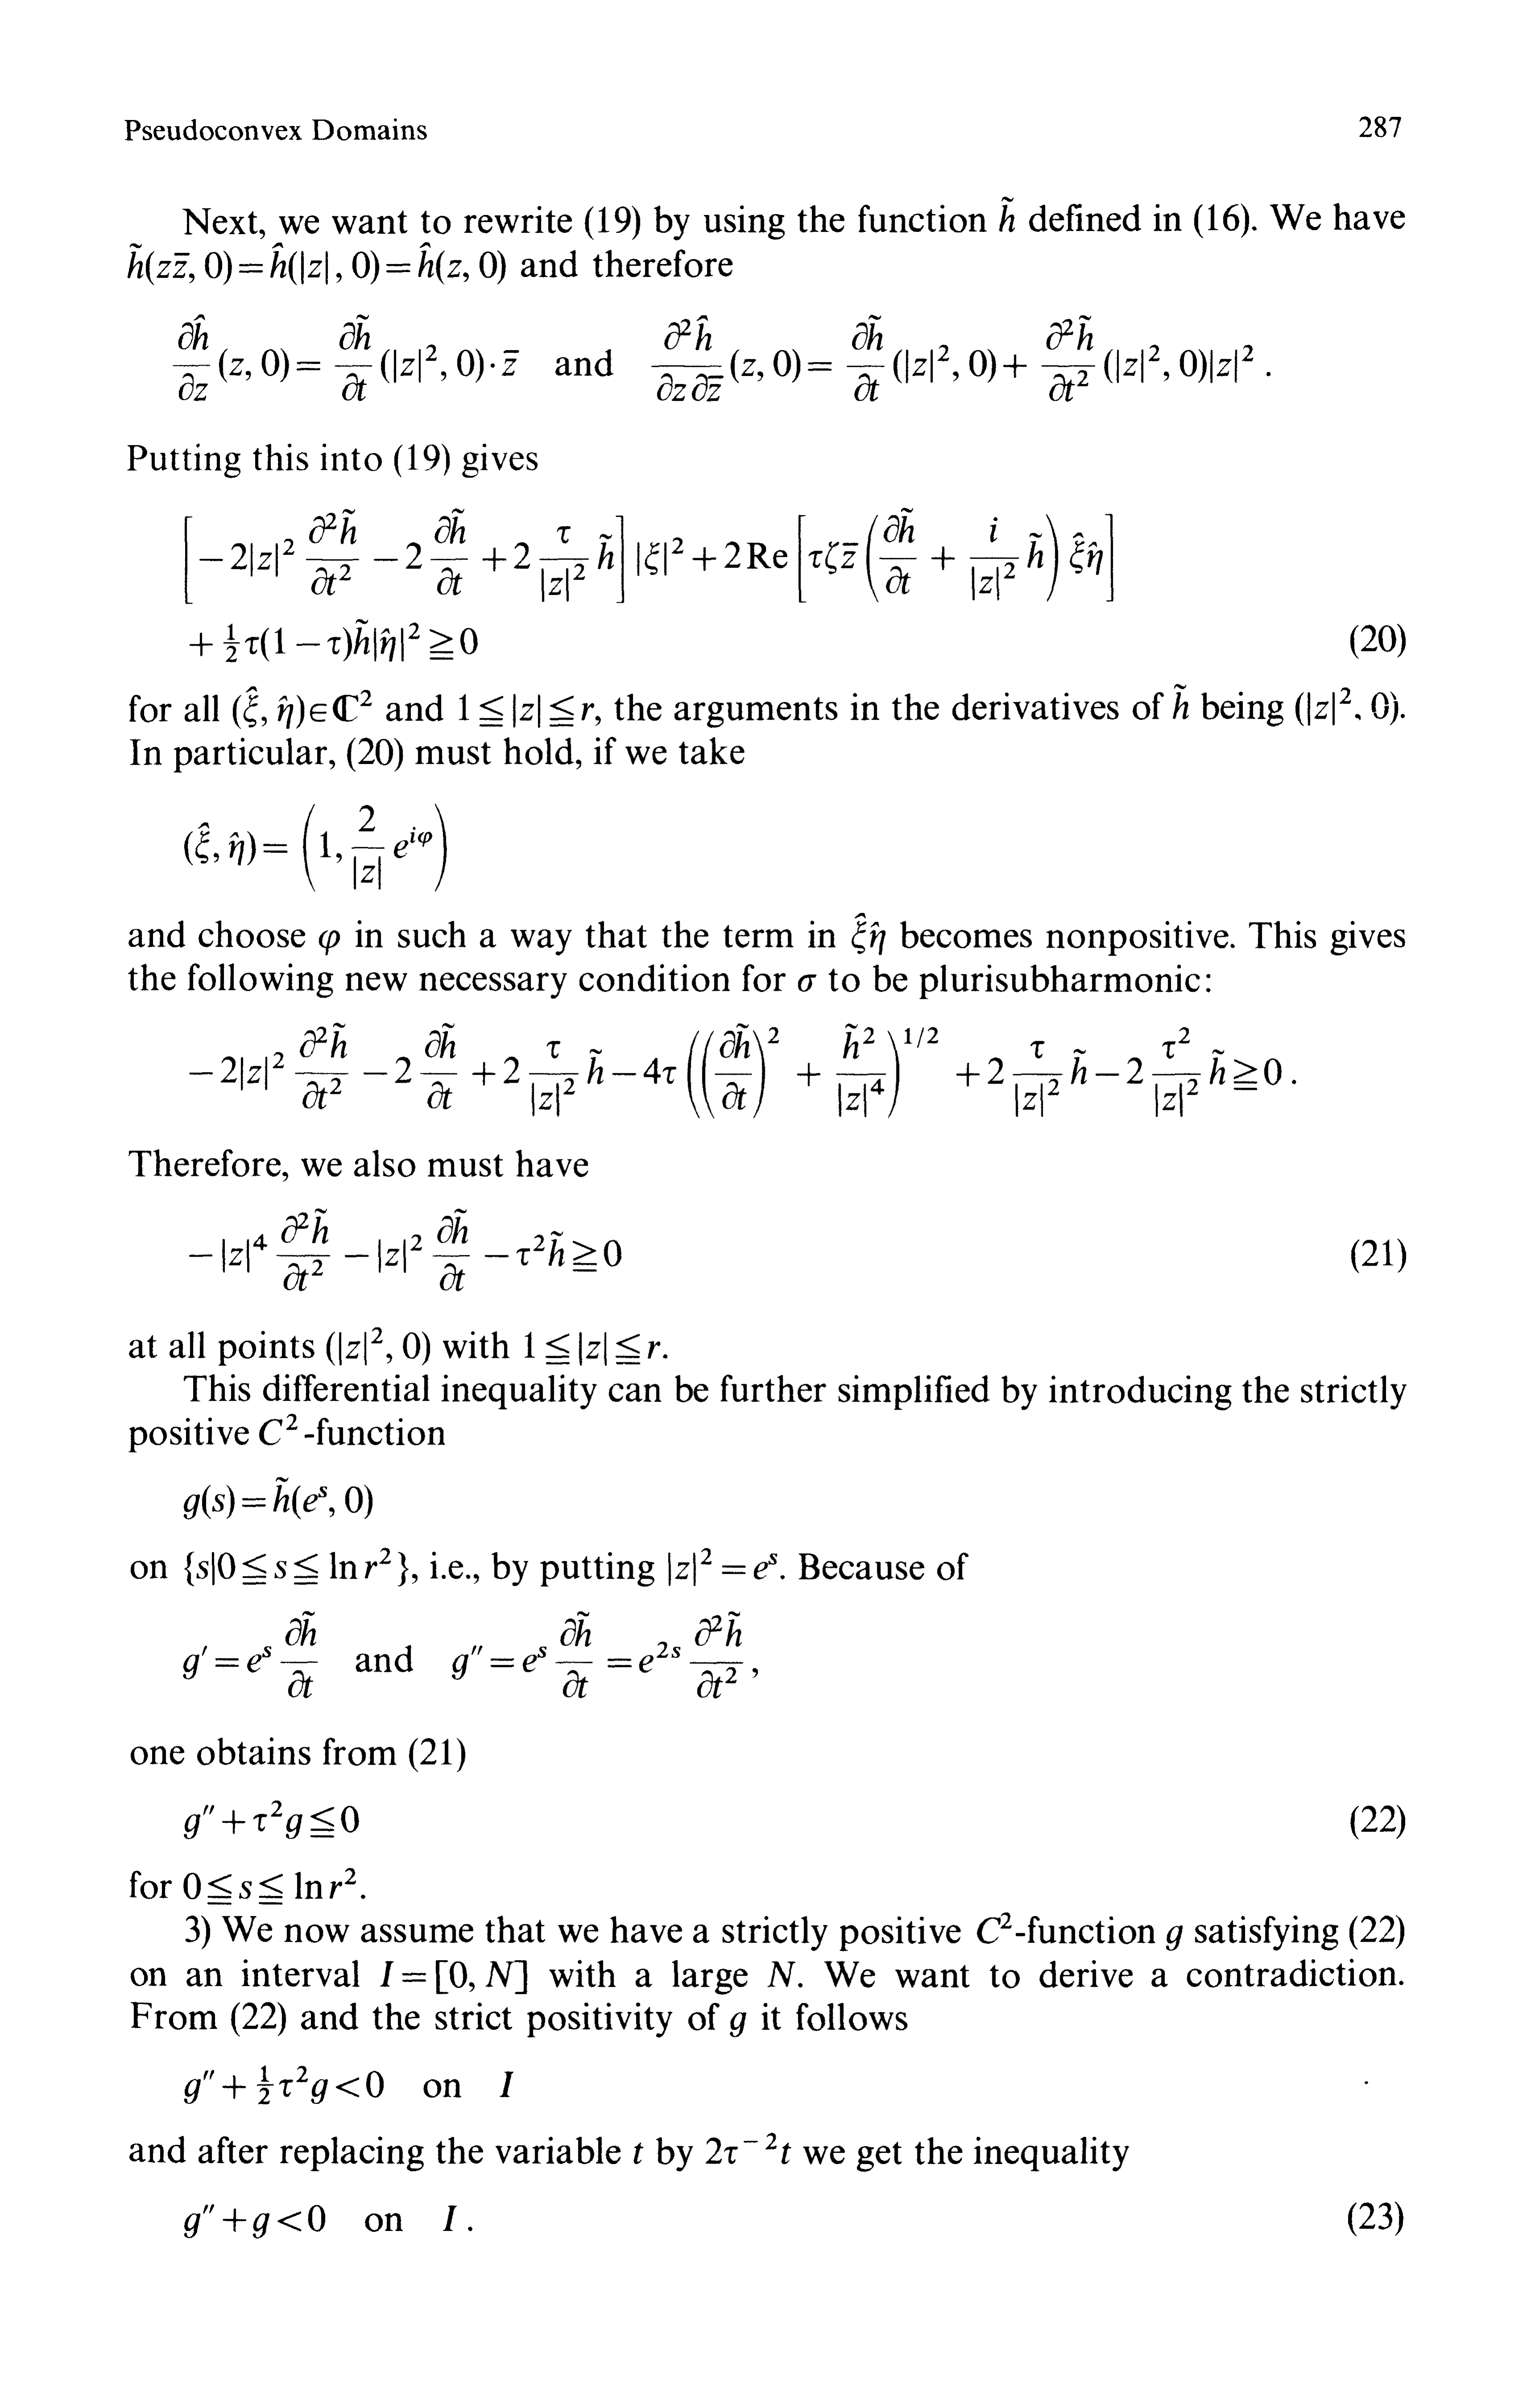maths: (190, 1023, 1282, 1118), (184, 507, 1113, 604), (651, 314, 1254, 402), (190, 1209, 622, 1292), (172, 314, 518, 400), (451, 1611, 743, 1699), (184, 804, 446, 892), (128, 242, 506, 284), (190, 620, 478, 662), (183, 1611, 318, 1699), (184, 1548, 407, 1587), (184, 1478, 372, 1520), (184, 2066, 383, 2104), (184, 1801, 358, 1839), (183, 1867, 355, 1904), (234, 686, 372, 728), (379, 1960, 527, 1994), (458, 693, 600, 727), (184, 2204, 325, 2238), (525, 1332, 660, 1365), (667, 1548, 776, 1585), (327, 1327, 430, 1365), (1296, 688, 1398, 725), (706, 2132, 790, 2164), (852, 913, 885, 955), (260, 1415, 297, 1444), (978, 1913, 1011, 1943), (767, 1960, 795, 1987), (1173, 683, 1189, 720), (999, 197, 1015, 232), (320, 930, 339, 955), (1166, 1925, 1182, 1950), (730, 2013, 746, 2038), (499, 2071, 513, 2097), (442, 2206, 456, 2231), (799, 974, 816, 992), (634, 2143, 643, 2164)
